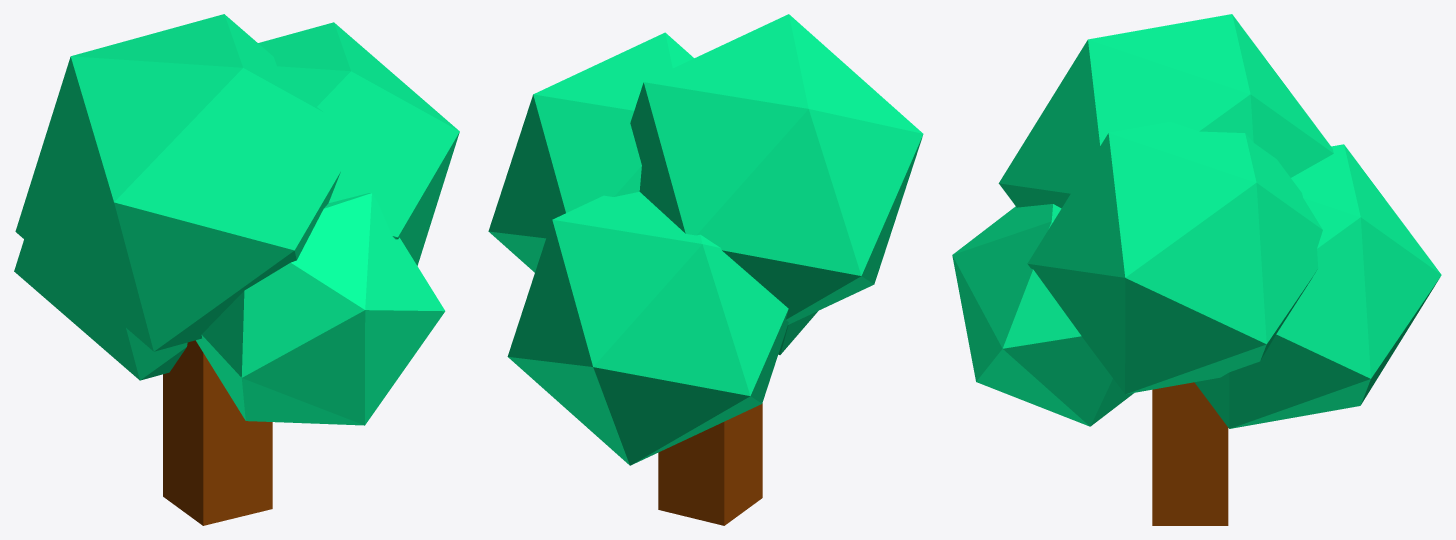
File: wood10.fbx
3 renders of one model, left to right at view 1: azimuth 30°, elevation 25°; view 2: azimuth 150°, elevation 25°; view 3: azimuth 270°, elevation 25°, orthographic. The views are drawn at different scales.
Parts seen in each view (by area): view 1: wood.009; view 2: wood.009; view 3: wood.009.
Boxes of the visible parts, x1,y1,x2,y2 form: wood.009: (14, 14, 459, 525); wood.009: (488, 14, 923, 525); wood.009: (952, 14, 1441, 525).
Bounding box in the file's own units: 233 × 276 × 268.
